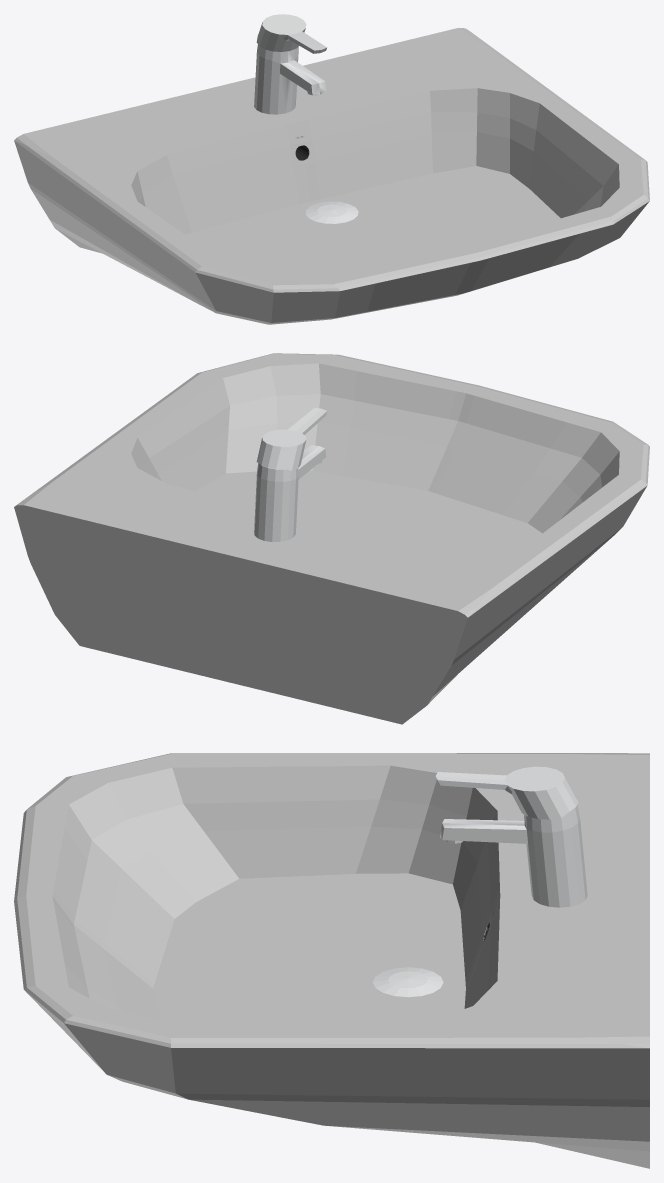
File: Lavabo.fbx
3 renders of one model, top to bottom at view 1: azimuth 30°, elevation 25°; view 2: azimuth 150°, elevation 25°; view 3: azimuth 270°, elevation 25°, orthographic. The views are drawn at different scales.
Parts seen in each view (by area): view 1: Lavello, Rubinetto, Apertura, Scarico; view 2: Lavello, Rubinetto, Apertura; view 3: Lavello, Rubinetto, Apertura, Scarico.
Part boxes in pixels (x1,y1,x2,y2): Lavello: [14, 28, 649, 324]; Rubinetto: [254, 44, 326, 114]; Apertura: [256, 14, 327, 53]; Scarico: [305, 201, 358, 223]; Lavello: [14, 353, 649, 724]; Rubinetto: [254, 445, 326, 541]; Apertura: [256, 408, 327, 470]; Lavello: [14, 753, 649, 1168]; Rubinetto: [440, 804, 587, 907]; Apertura: [435, 766, 578, 819]; Scarico: [372, 967, 443, 997].
Bounding box in the file's own units: 84.42 × 38.64 × 77.24.
